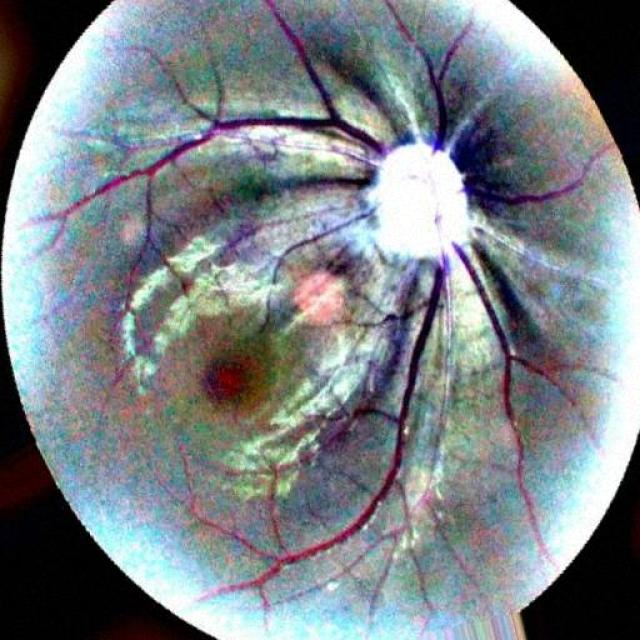Macula: (200, 356, 254, 404)
Nerves: (191, 0, 559, 609), (41, 0, 400, 242), (448, 145, 609, 204), (275, 209, 371, 271), (300, 179, 364, 189)
Optic Disk: (370, 141, 468, 256)
